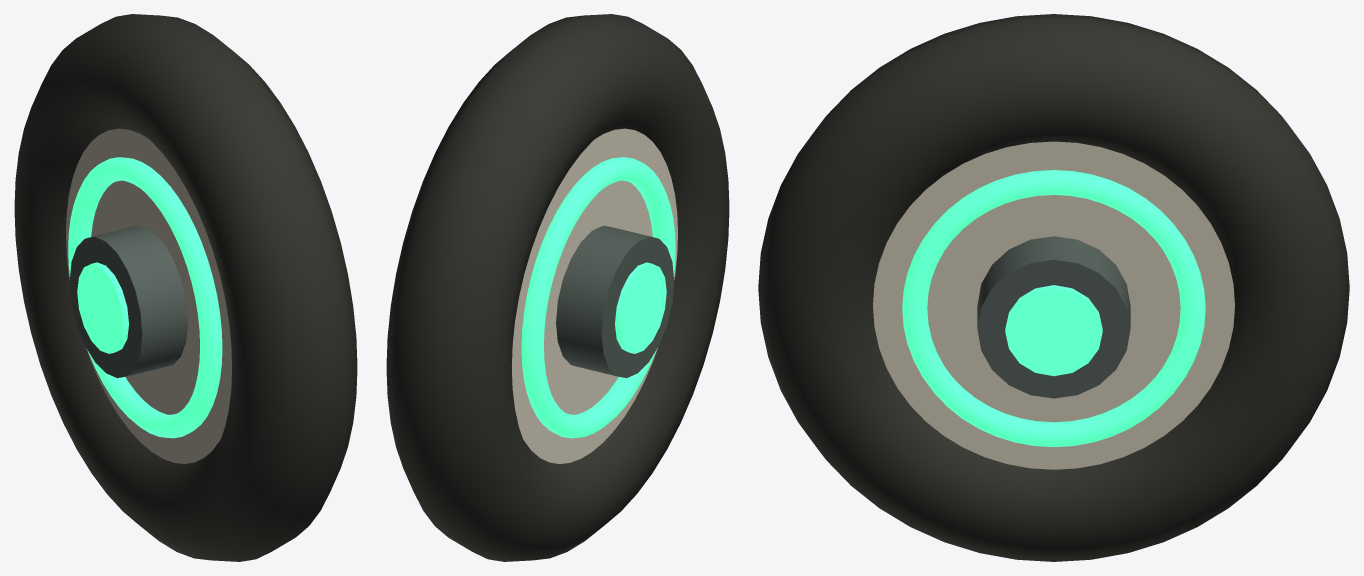
Rendered from zonai_wheel-DAO0YYyV.glb.
3 views of the same model, side by side, from view 1: azimuth 30°, elevation 25°; view 2: azimuth 150°, elevation 25°; view 3: azimuth 270°, elevation 25° (orthographic). The views are drawn at different scales.
Visible parts, largest first — view 1: body; view 2: body; view 3: body.
Boxes of the visible parts, left/top/right/bottom form: body: left=14, top=14, right=357, bottom=561; body: left=386, top=14, right=729, bottom=561; body: left=758, top=14, right=1349, bottom=561.
Bounding box in the file's own units: 0.3 × 0.85 × 0.85.
